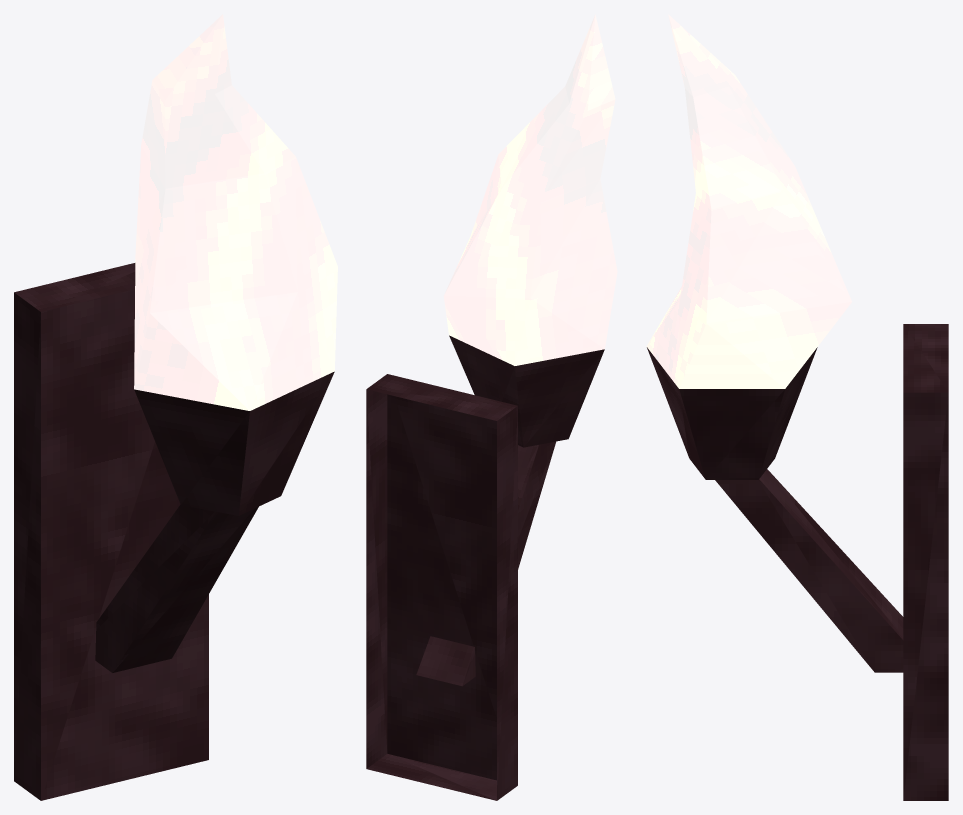
File: torch.glb
3 views of the same model, side by side, from view 1: azimuth 30°, elevation 25°; view 2: azimuth 150°, elevation 25°; view 3: azimuth 270°, elevation 25° (orthographic). The views are drawn at different scales.
Parts seen in each view (by area): view 1: Torch; view 2: Torch; view 3: Torch.
Part boxes in pixels (x1,y1,x2,y2): Torch: (14,14,337,800); Torch: (366,14,617,800); Torch: (646,14,948,800).
Bounding box in the file's own units: 0.202 × 0.9 × 0.3351.
Materials: 2 (2 with a texture image).
